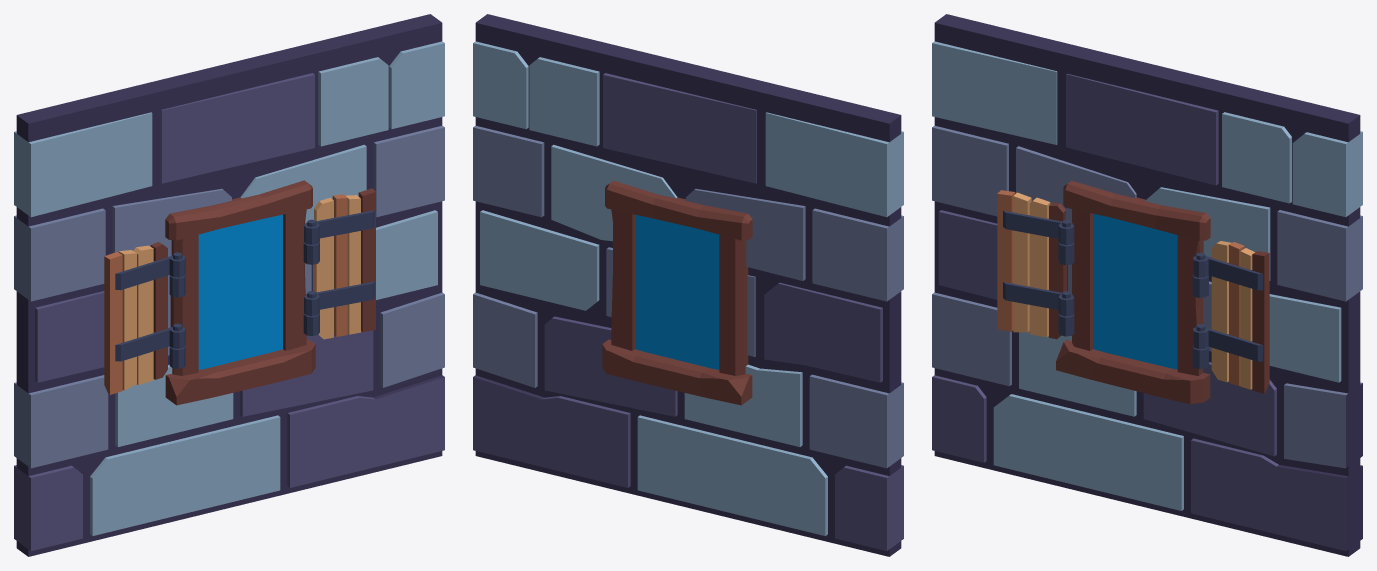
File: Modular Wall 08 MK2 W2.fbx
3 views of the same model, side by side, from view 1: azimuth 30°, elevation 25°; view 2: azimuth 150°, elevation 25°; view 3: azimuth 330°, elevation 25° (orthographic).
Parts seen in each view (by area): view 1: Modular Wall 08 MK2 W2, WindowSiding 01.019, WindowSiding 02.019; view 2: Modular Wall 08 MK2 W2; view 3: Modular Wall 08 MK2 W2, WindowSiding 01.019, WindowSiding 02.019.
Boxes of the visible parts, x1,y1,x2,y2 form: Modular Wall 08 MK2 W2: [14, 14, 444, 556]; WindowSiding 01.019: [104, 242, 185, 394]; WindowSiding 02.019: [304, 188, 375, 339]; Modular Wall 08 MK2 W2: [473, 14, 903, 556]; Modular Wall 08 MK2 W2: [932, 14, 1362, 556]; WindowSiding 01.019: [997, 190, 1074, 339]; WindowSiding 02.019: [1193, 241, 1269, 393].
Bounding box in the file's own units: 400 × 400 × 66.15.
